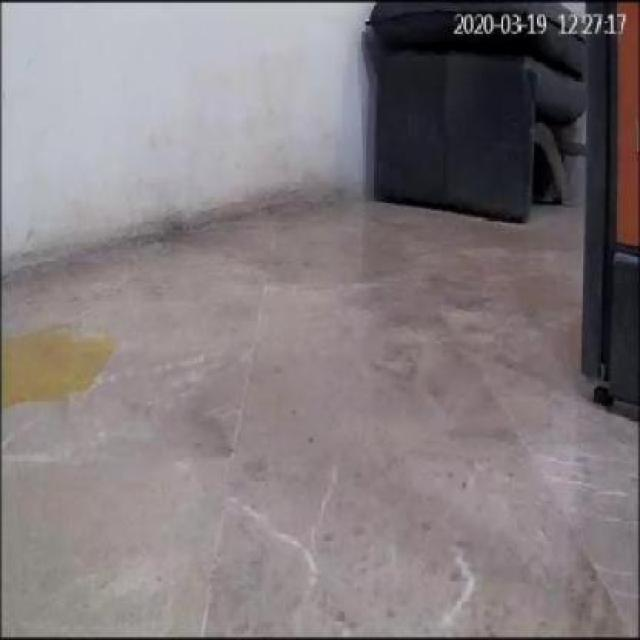spillage: (3, 326, 117, 408)
